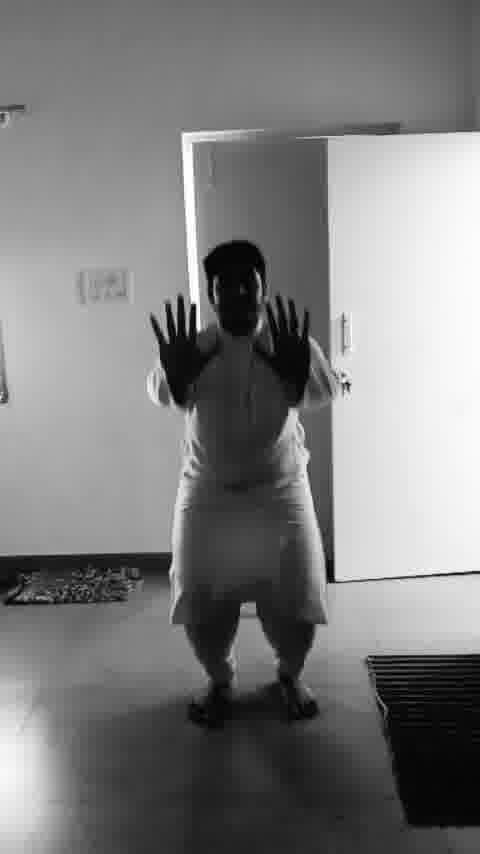duck: (113, 227, 357, 740)
